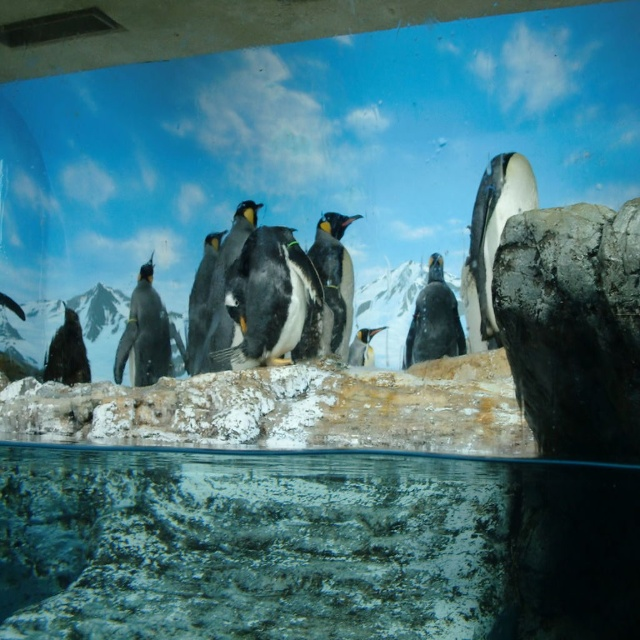Penguin: (462, 151, 539, 352), (235, 222, 327, 372), (198, 200, 262, 373), (109, 249, 188, 387), (306, 204, 363, 372), (403, 253, 466, 359), (184, 226, 226, 371), (42, 297, 93, 383), (345, 329, 385, 361)
